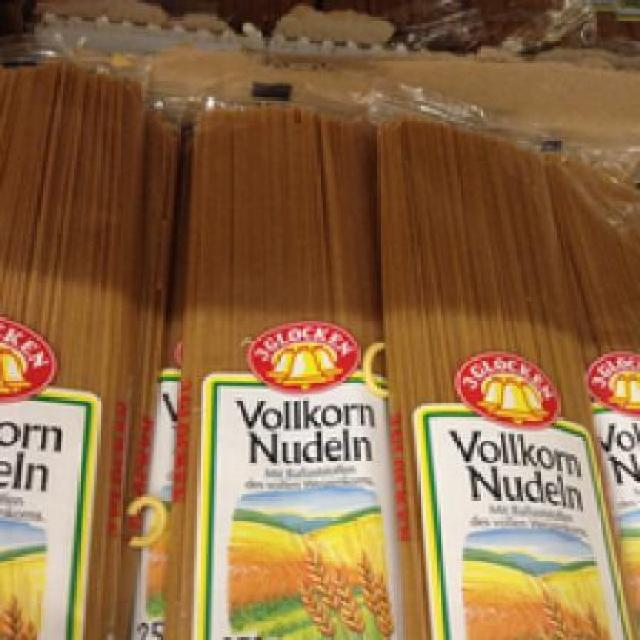Pasta: (368, 85, 634, 638), (185, 97, 398, 634), (0, 53, 155, 638)
